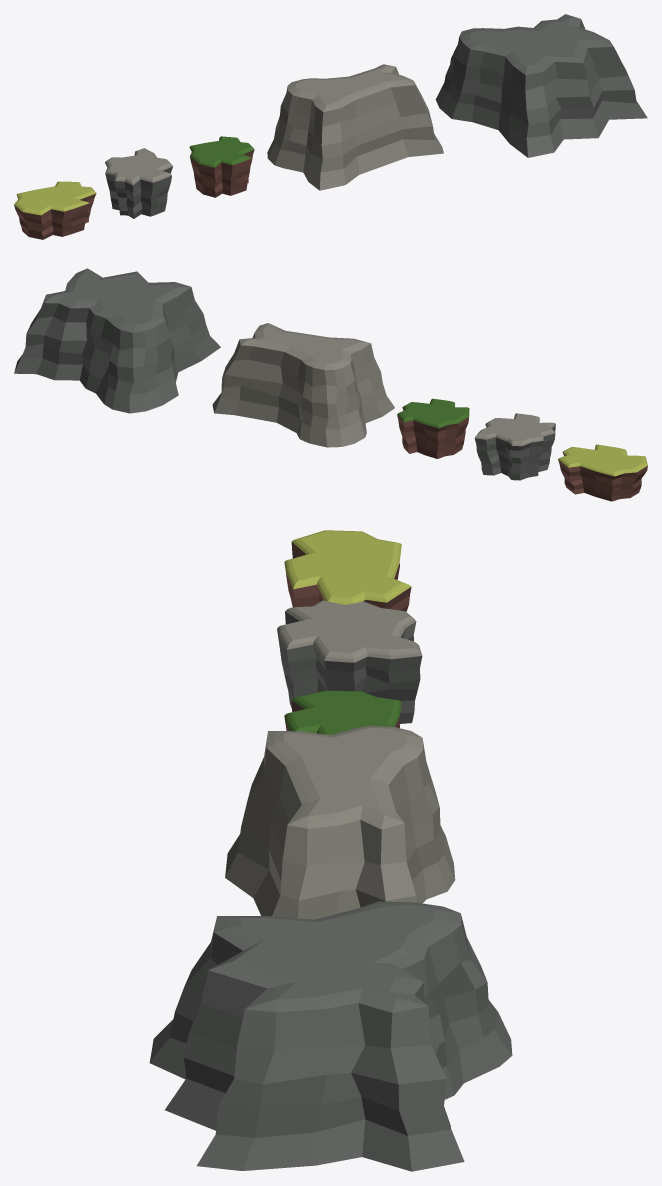
File: Mountains.glb
3 renders of one model, top to bottom at view 1: azimuth 30°, elevation 25°; view 2: azimuth 150°, elevation 25°; view 3: azimuth 270°, elevation 25°, orthographic. The views are drawn at different scales.
Visible parts, largest first — view 1: Plane.004, Plane.002, Plane.001, Plane.003, Plane; view 2: Plane.004, Plane.002, Plane.001, Plane.003, Plane; view 3: Plane.004, Plane.002, Plane.001, Plane.003, Plane.
Boxes of the visible parts, x1,y1,x2,y2 form: Plane.004: [435, 14, 647, 157]; Plane.002: [267, 64, 443, 190]; Plane.001: [105, 148, 172, 218]; Plane.003: [14, 181, 96, 239]; Plane: [189, 136, 254, 197]; Plane.004: [14, 268, 220, 413]; Plane.002: [212, 323, 394, 447]; Plane.001: [474, 413, 555, 480]; Plane.003: [558, 444, 647, 501]; Plane: [397, 398, 469, 458]; Plane.004: [149, 901, 512, 1171]; Plane.002: [225, 725, 455, 919]; Plane.001: [277, 600, 422, 723]; Plane.003: [284, 530, 411, 611]; Plane: [284, 690, 401, 734].
Bounding box in the file's own units: 60.1 × 6.76 × 15.75.
Materials: 1 (1 with a texture image).
